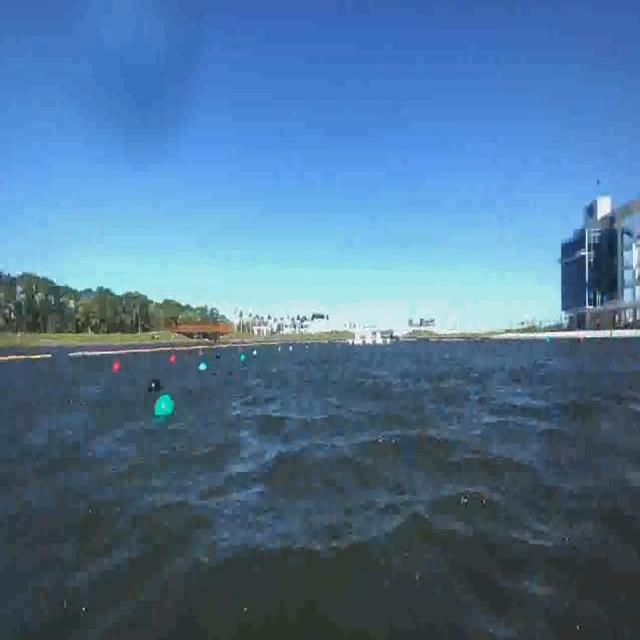black-buoy: (147, 374, 161, 394)
green-buoy: (154, 396, 174, 420), (200, 361, 208, 371)
red-buoy: (113, 361, 120, 372)
